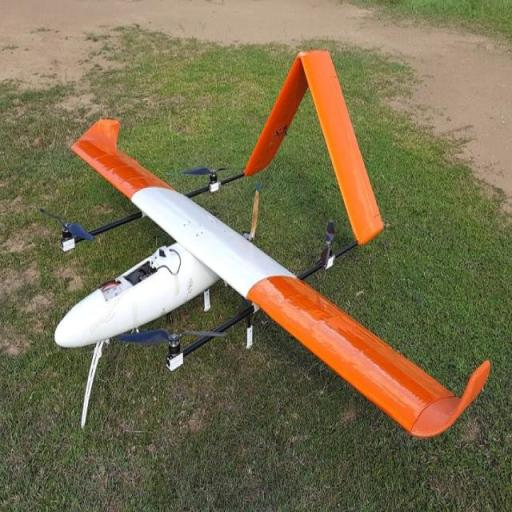uav: (31, 40, 496, 480)
